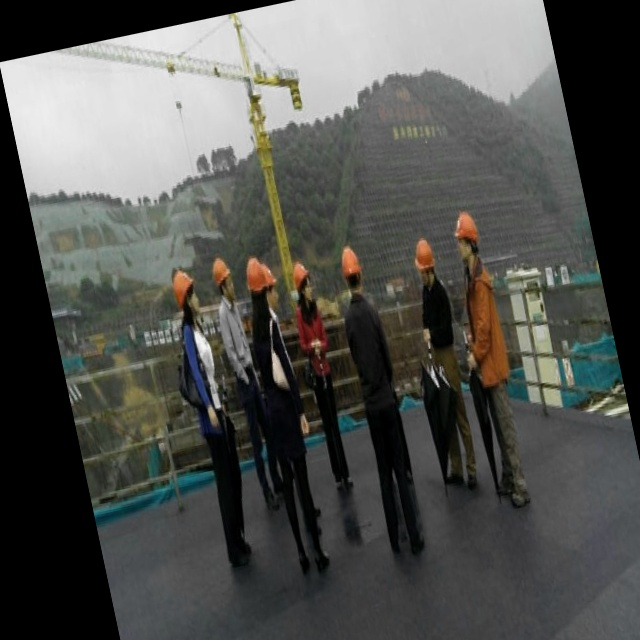Con_Casco: (450, 209, 483, 264), (335, 243, 365, 296), (410, 235, 438, 284), (290, 260, 317, 307)
